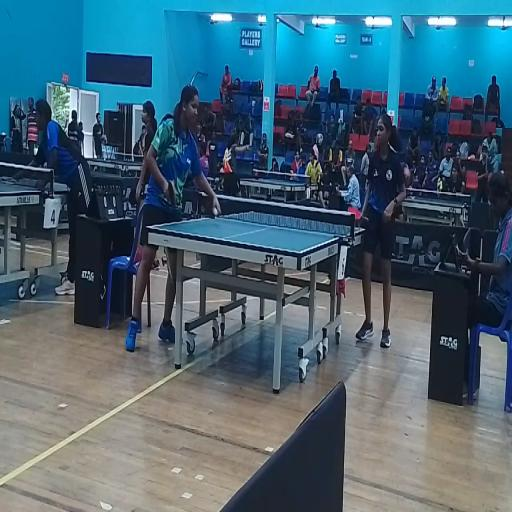ball: (212, 208, 218, 216)
